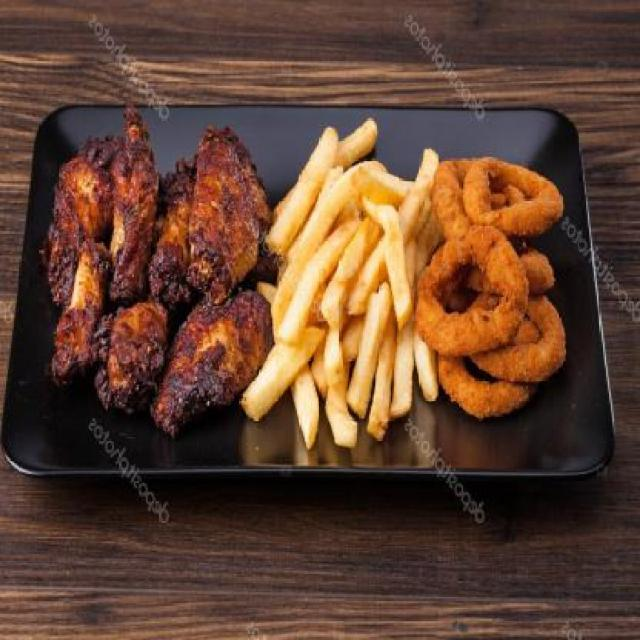chicken wings: (20, 104, 275, 438)
french fries: (240, 104, 446, 451)
onion rings: (422, 142, 569, 432)
